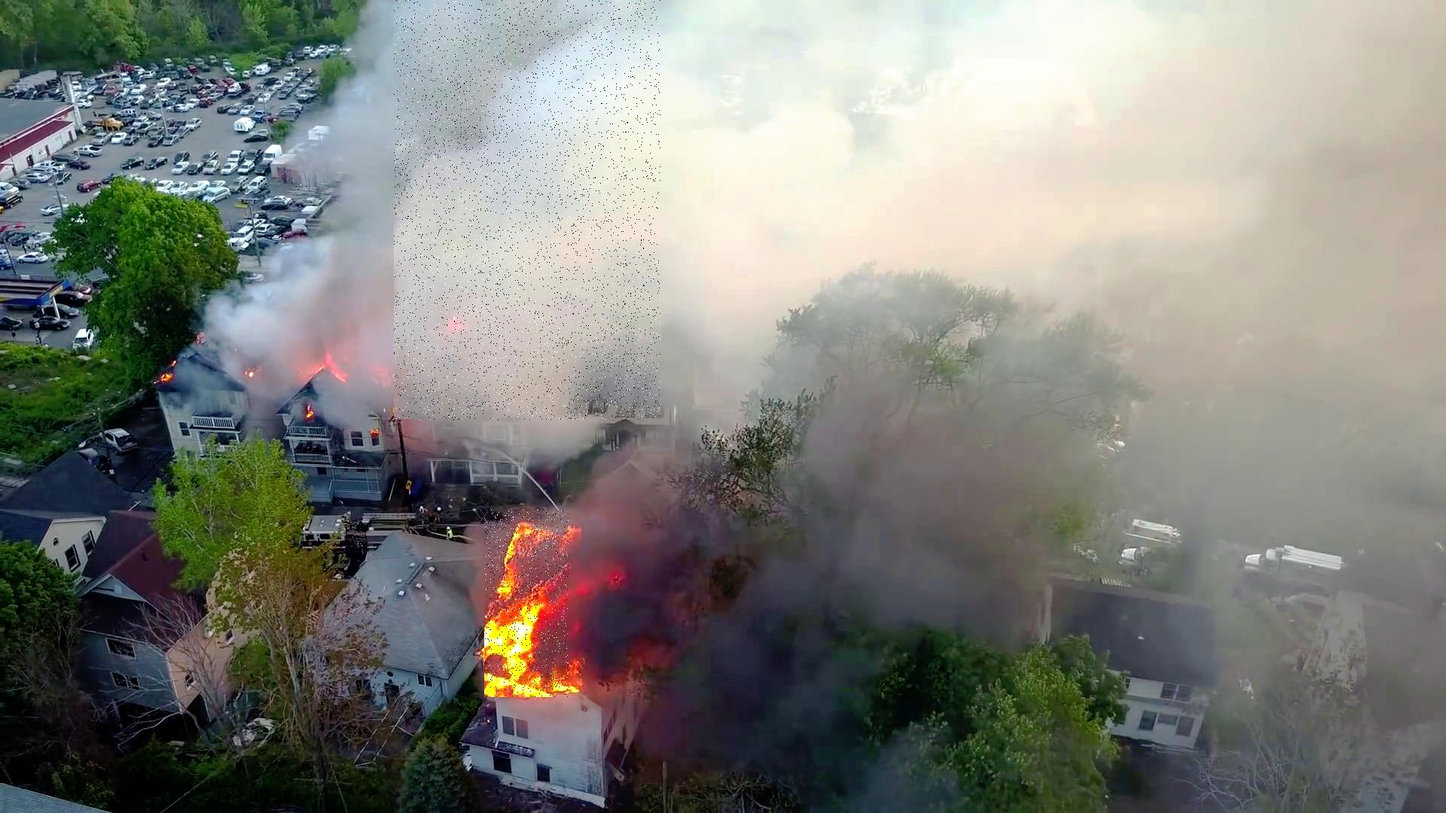fire: (484, 508, 569, 697)
smoke: (394, 0, 661, 420)
